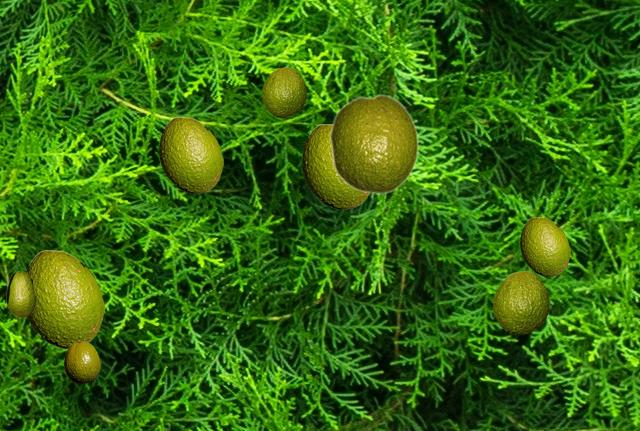avocado: (329, 93, 418, 194), (25, 250, 103, 347), (302, 124, 370, 208), (159, 117, 222, 192), (493, 271, 548, 333), (520, 217, 569, 275), (262, 67, 305, 116), (64, 341, 99, 382), (6, 271, 35, 316)
